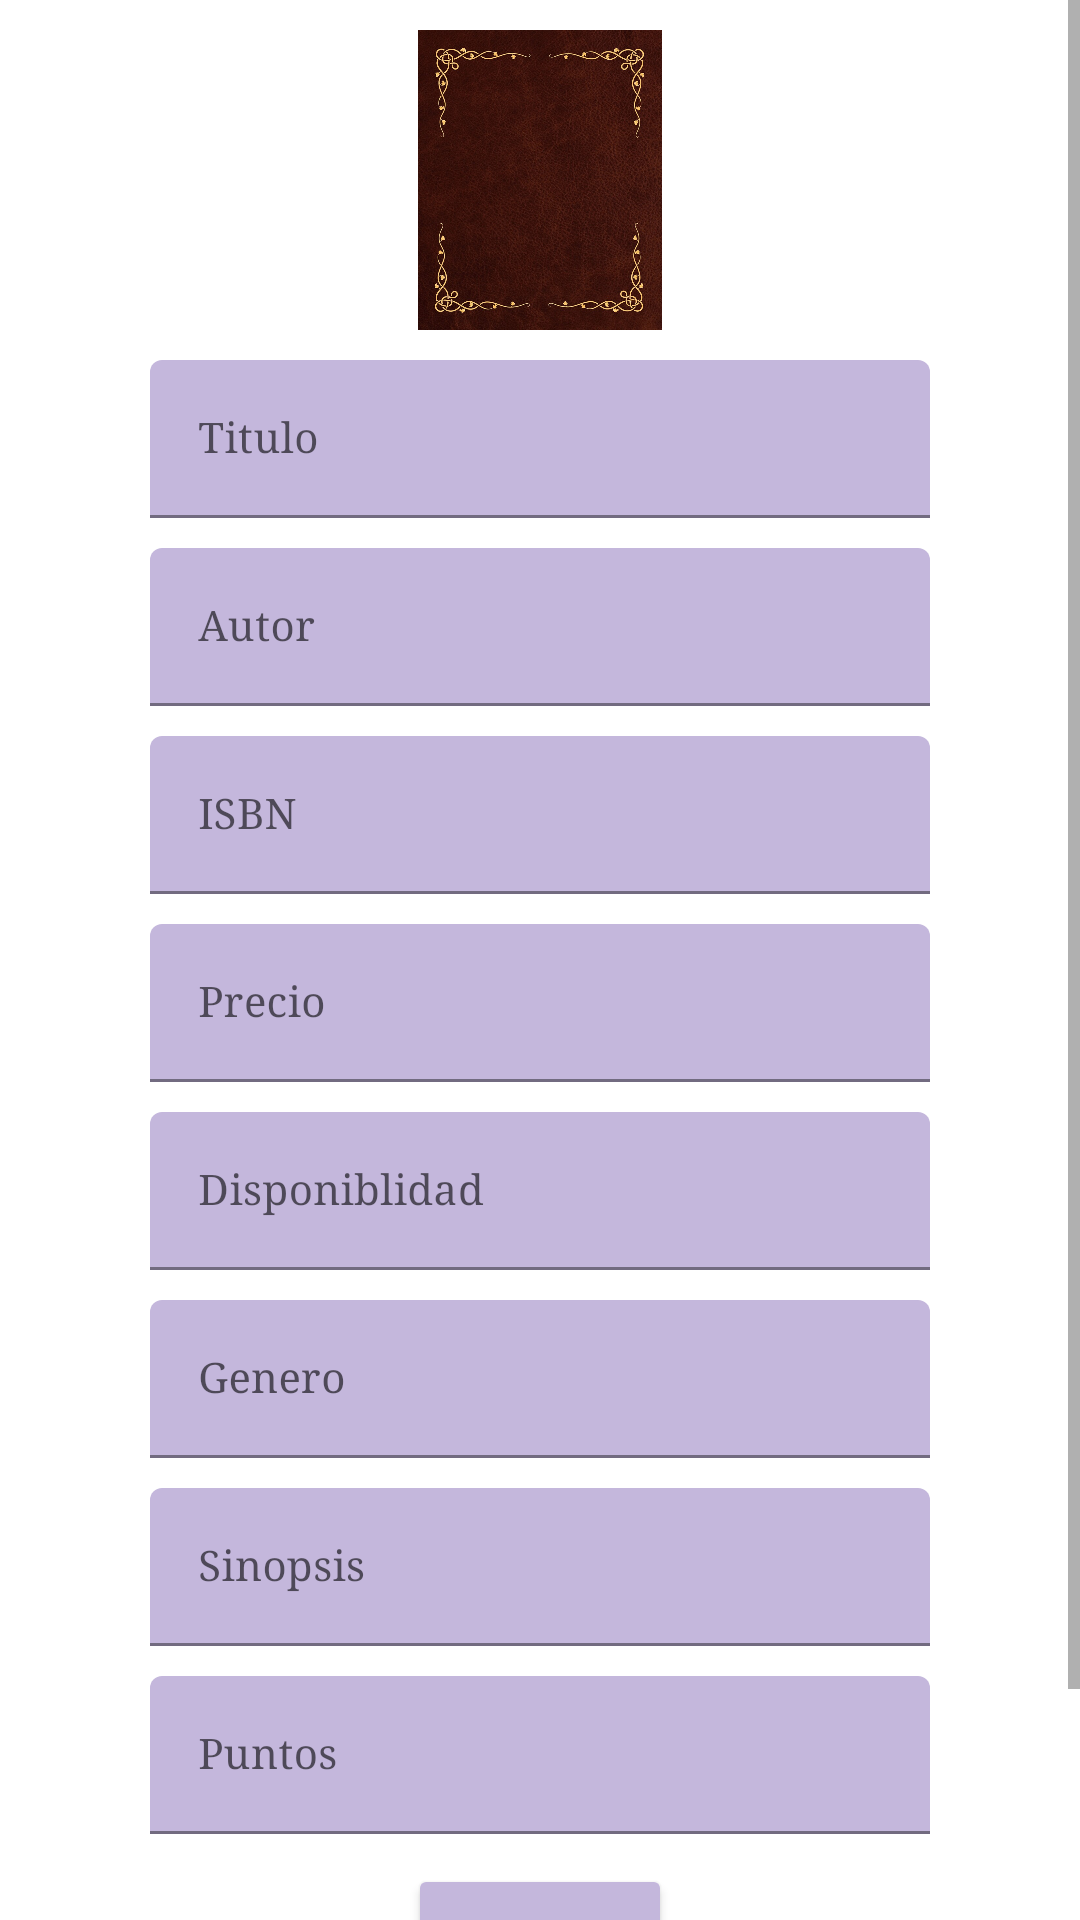

Screen size 1080w x 1920h. Icon name, then its box in pixels as [left=x1, top=y1, right=x2, bottom=y2]:
portada libro: [left=418, top=30, right=662, bottom=330]
